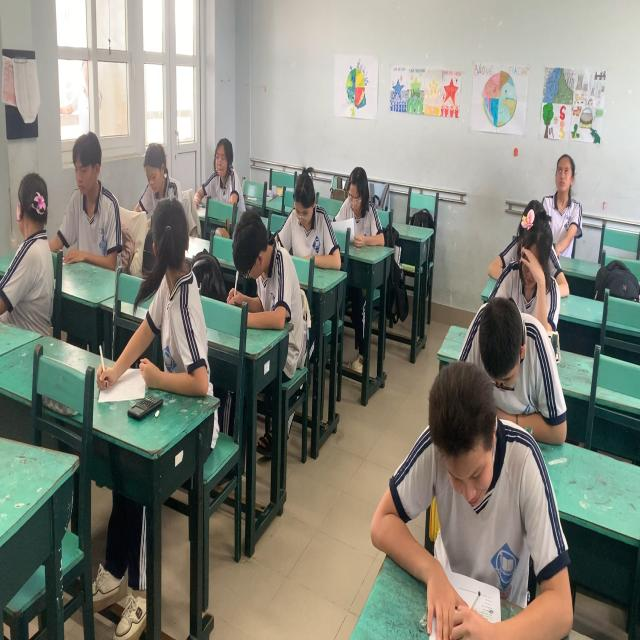cheating: (142, 194, 204, 405), (8, 159, 60, 333)
not_cheating: (230, 205, 297, 352), (59, 130, 121, 280), (133, 132, 180, 226)
